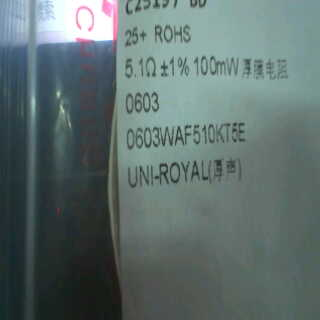5.1R: (121, 53, 157, 82)
